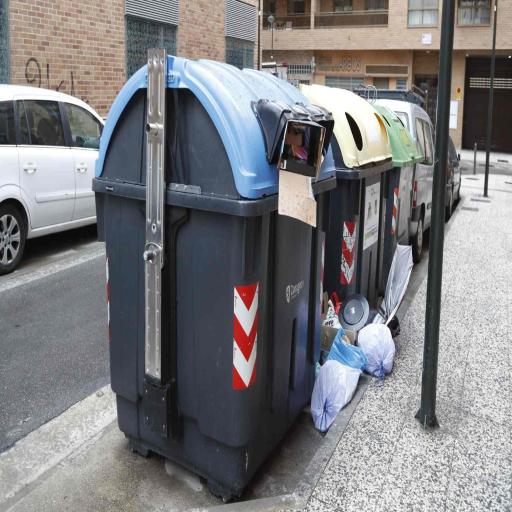Contenedor_Desbordado: (92, 48, 419, 501)
